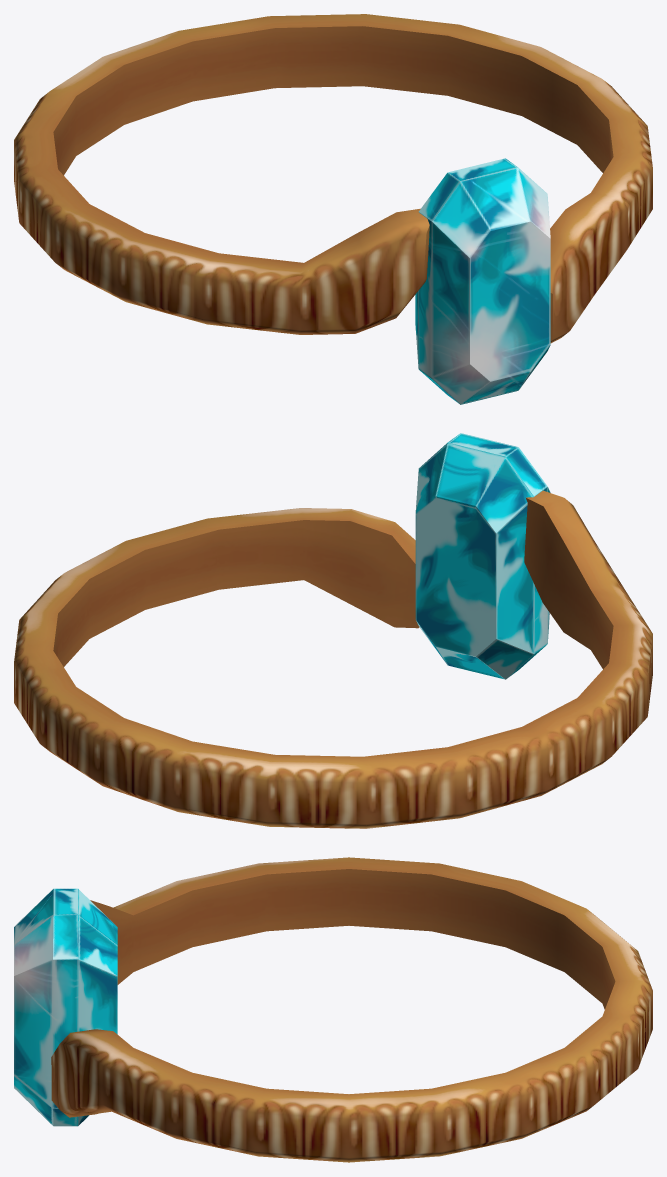
File: ring_copper_06.fbx
3 renders of one model, top to bottom at view 1: azimuth 30°, elevation 25°; view 2: azimuth 150°, elevation 25°; view 3: azimuth 270°, elevation 25°, orthographic. The views are drawn at different scales.
Parts seen in each view (by area): view 1: ring_copper_06; view 2: ring_copper_06; view 3: ring_copper_06.
Boxes of the visible parts, <box> form: ring_copper_06: <box>14,14,652,404</box>; ring_copper_06: <box>14,433,652,828</box>; ring_copper_06: <box>14,857,652,1162</box>.
Bounding box in the file's own units: 2.04 × 0.783 × 2.15.
